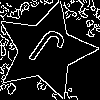J: (20, 26, 69, 78)
